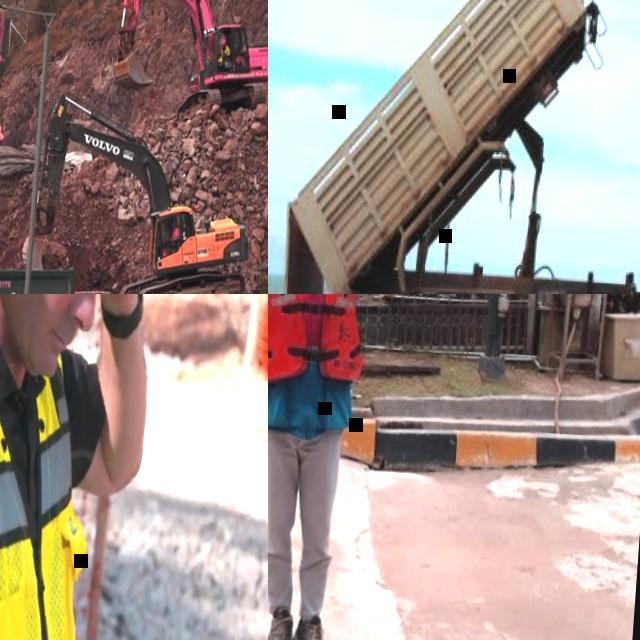Hardhat: (221, 38, 227, 45), (171, 221, 176, 226)
NO-Mask: (0, 294, 104, 383)
Person: (268, 294, 444, 640), (0, 294, 169, 640), (161, 220, 179, 257), (217, 37, 231, 67)
Safety Vest: (0, 294, 106, 640), (268, 294, 372, 386), (218, 46, 230, 62), (169, 227, 179, 240)
machinery: (275, 0, 640, 294), (19, 88, 260, 294), (110, 0, 268, 129), (0, 238, 77, 294), (0, 6, 13, 162)
